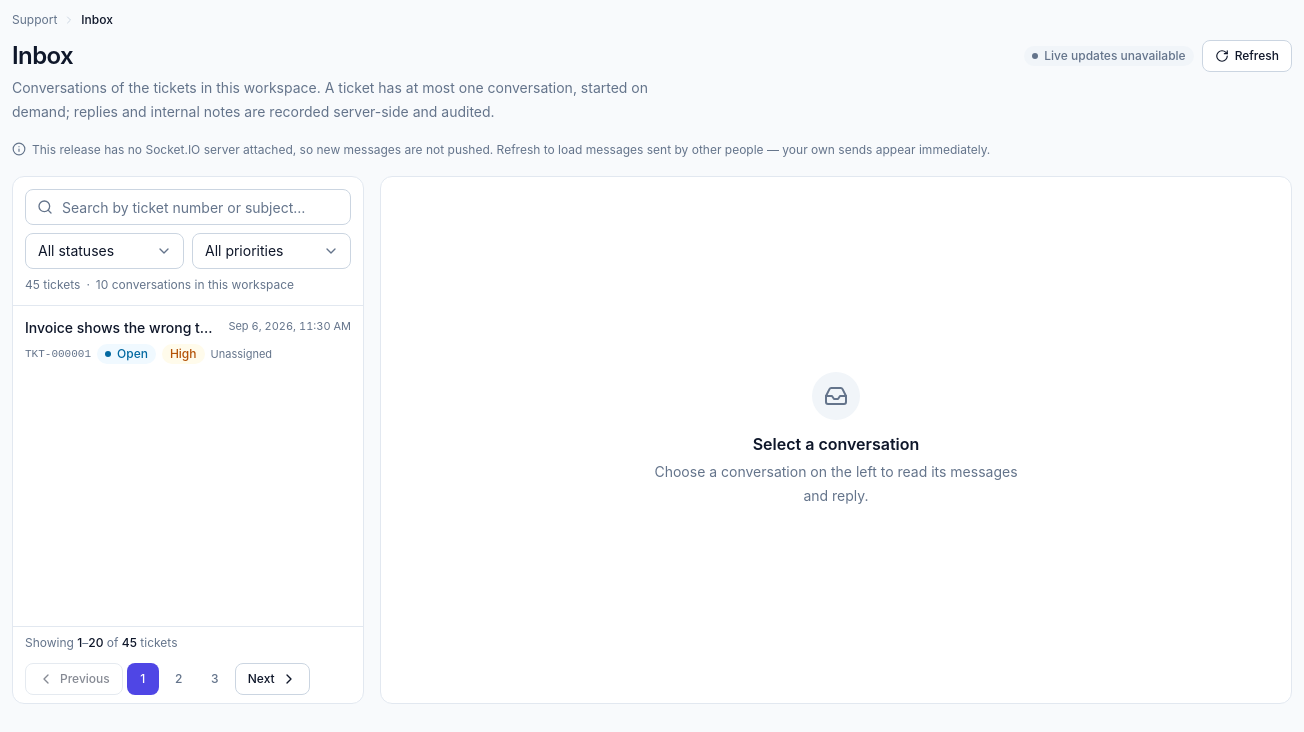
Test case: InboxPage › paginates on the server and clears the selection
What coordinates should you click on to do the following:
click the button "Invoice shows the wrong total"
I would click on:
 (188, 341)
Its box is [13, 306, 363, 376].
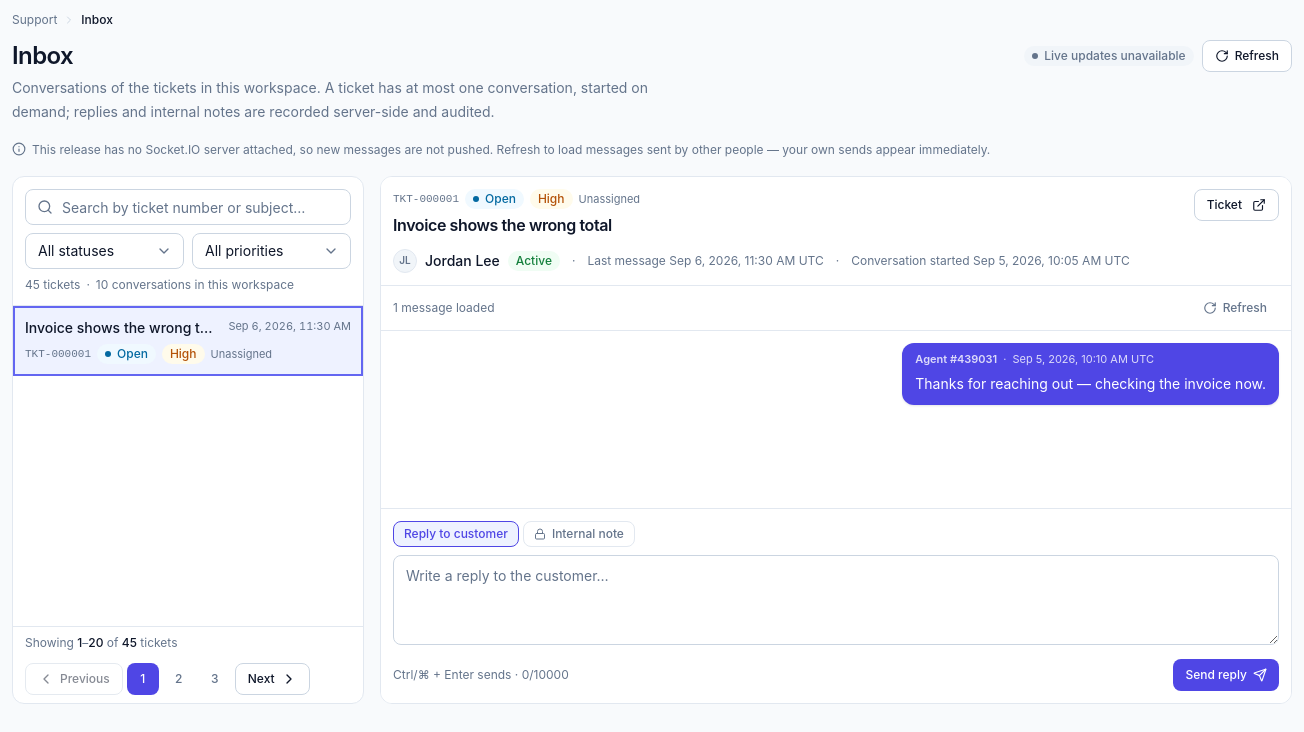
Expected: the text "Thanks for reaching out — checking the invoice now." is shown, [915, 372, 1266, 396]
What coordinates should you click on to do the following:
click the button named "Page 2"
I would click on:
 (179, 679)
Its box is [163, 663, 195, 695].
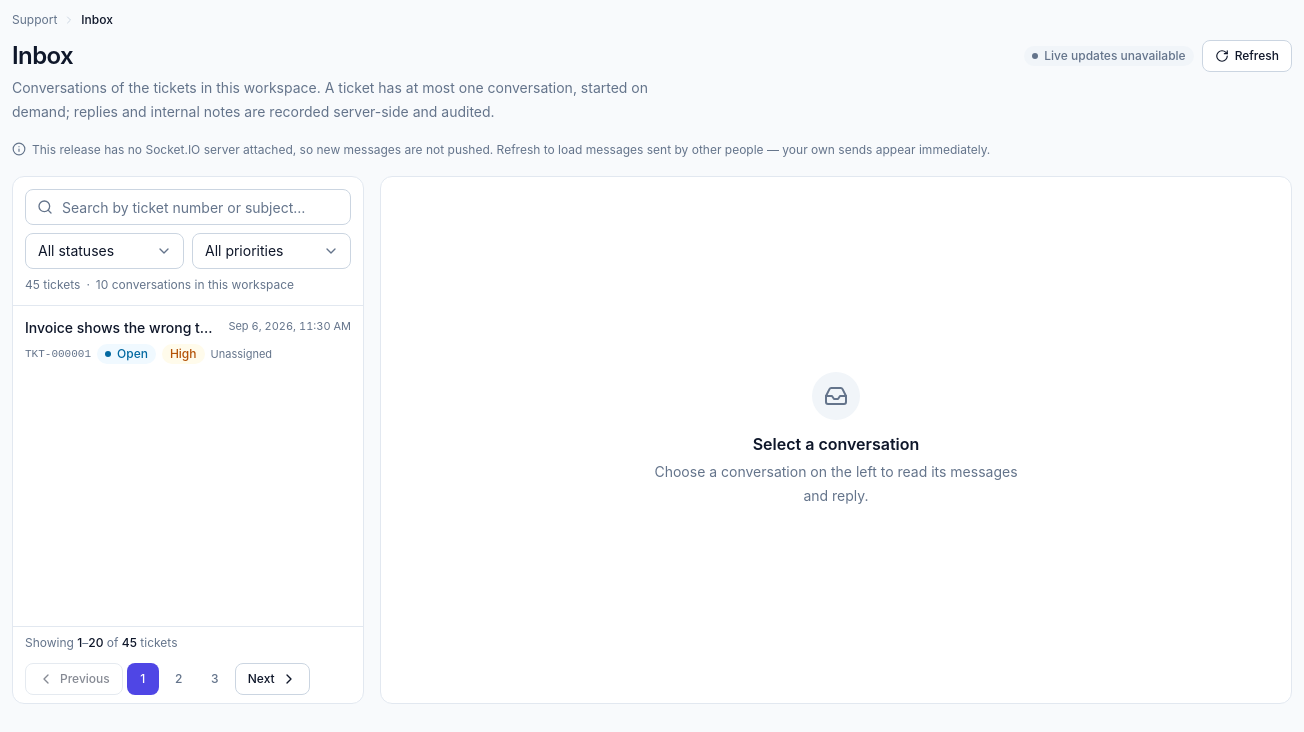
Expected: the text "Thanks for reaching out — checking the invoice now." is gone
